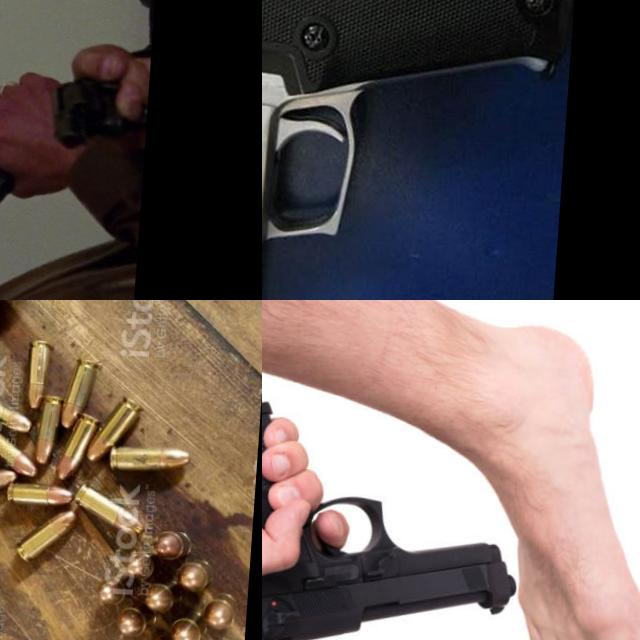handgun: (262, 0, 584, 300), (262, 388, 536, 640), (0, 300, 132, 640), (0, 79, 97, 210), (49, 66, 150, 154)
